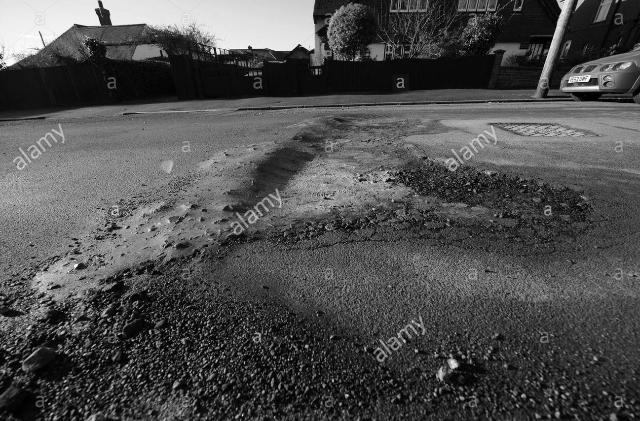Pothole: (0, 260, 640, 421), (208, 96, 606, 280)
